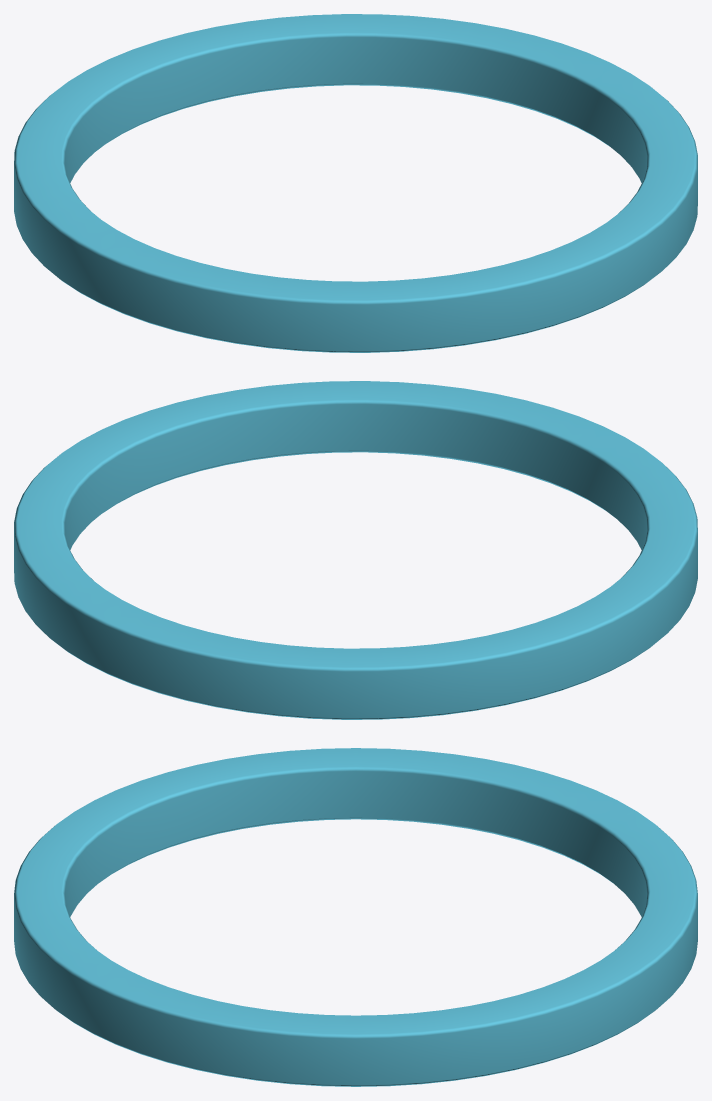
3 views of the same model, one above another, from view 1: azimuth 30°, elevation 25°; view 2: azimuth 150°, elevation 25°; view 3: azimuth 270°, elevation 25° (orthographic).
Visible parts, largest first — view 1: seal_body; view 2: seal_body; view 3: seal_body.
Part boxes in pixels (bbox=[...]): seal_body: bbox=[14, 14, 697, 352]; seal_body: bbox=[14, 381, 697, 719]; seal_body: bbox=[14, 748, 697, 1086].
Bounding box in the file's own units: 0.235 × 0.02 × 0.235.
